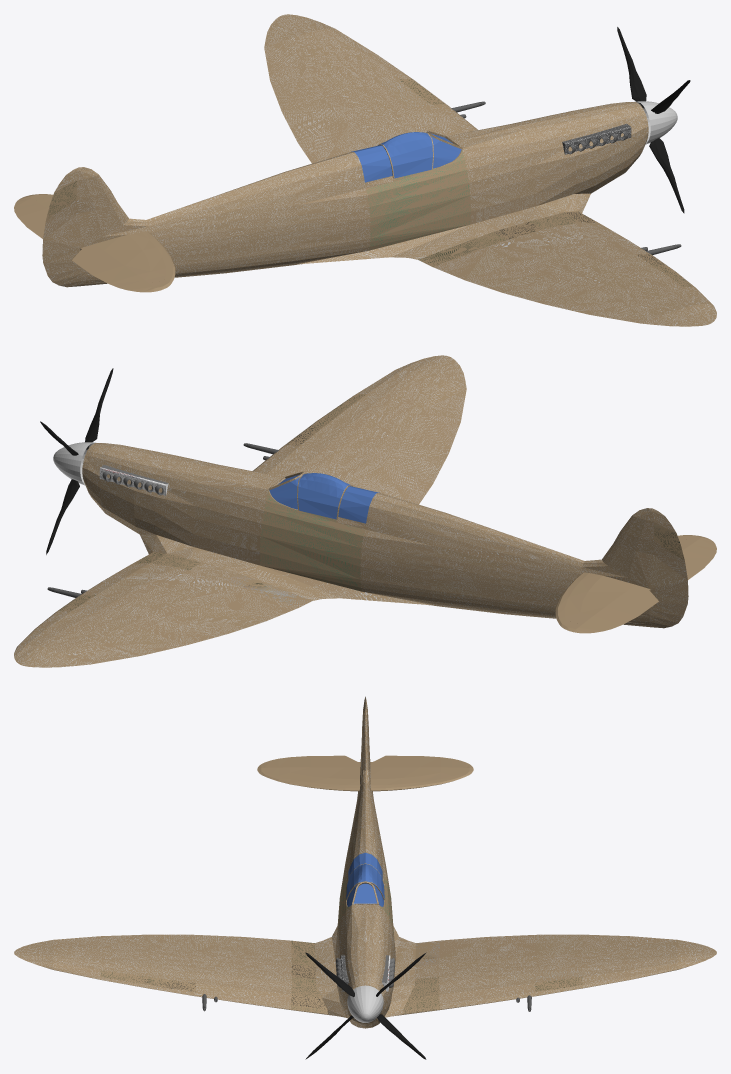
3 views of the same model, one above another, from view 1: azimuth 30°, elevation 25°; view 2: azimuth 150°, elevation 25°; view 3: azimuth 270°, elevation 25° (orthographic). The views are drawn at different scales.
Visible parts, largest first — view 1: mesh1_mesh1-geometry, mesh3_mesh3-geometry, mesh36.001_mesh36-geometry, mesh2_mesh2-geometry, mesh32_mesh32-geometry, mesh30_mesh30-geometry; view 2: mesh1_mesh1-geometry, mesh3_mesh3-geometry, mesh34.001_mesh34-geometry, mesh2_mesh2-geometry; view 3: mesh1_mesh1-geometry, mesh3_mesh3-geometry, mesh2_mesh2-geometry.
Boxes of the visible parts, x1,y1,x2,y2 form: mesh1_mesh1-geometry: (42,14,716,326); mesh3_mesh3-geometry: (14,194,175,292); mesh36.001_mesh36-geometry: (562,123,631,154); mesh2_mesh2-geometry: (635,101,677,144); mesh32_mesh32-geometry: (617,27,646,107); mesh30_mesh30-geometry: (649,137,684,213); mesh1_mesh1-geometry: (14,355,688,667); mesh3_mesh3-geometry: (555,535,716,633); mesh34.001_mesh34-geometry: (99,465,168,495); mesh2_mesh2-geometry: (53,442,95,485); mesh1_mesh1-geometry: (14,696,716,1028); mesh3_mesh3-geometry: (257,755,473,791); mesh2_mesh2-geometry: (347,985,383,1022).
Bounding box in the file's own units: 0.6457 × 0.1584 × 0.747.
